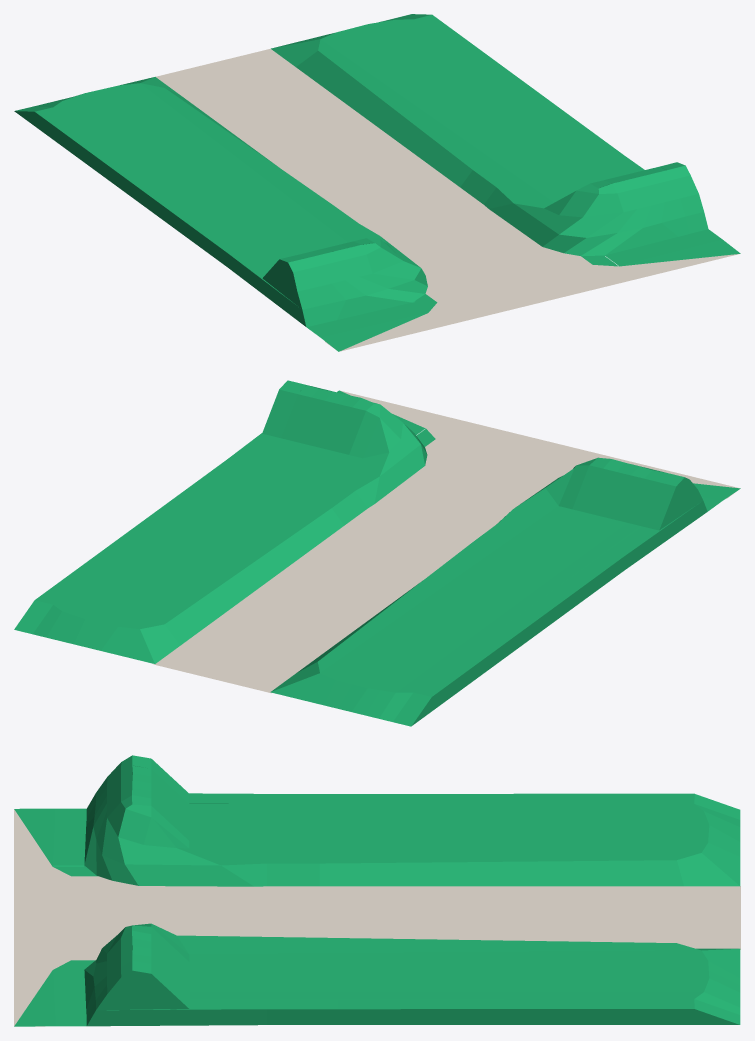
Rendered from poldergrond1.fbx.
The picture shows the model from 3 angles, top to bottom: view 1: azimuth 30°, elevation 25°; view 2: azimuth 150°, elevation 25°; view 3: azimuth 270°, elevation 25°; orthographic projection. The views are drawn at different scales.
Parts seen in each view (by area): view 1: Plane, Plane.001, Plane.002; view 2: Plane, Plane.001, Plane.002; view 3: Plane, Plane.001, Plane.002.
Part boxes in pixels (<box>): Plane: <box>14,14,708,327</box>; Plane.001: <box>155,49,738,351</box>; Plane.002: <box>307,229,740,351</box>; Plane: <box>14,380,707,726</box>; Plane.001: <box>153,390,739,693</box>; Plane.002: <box>337,390,740,511</box>; Plane: <box>84,755,740,1026</box>; Plane.001: <box>14,809,740,1026</box>; Plane.002: <box>14,808,97,1026</box>.
Bounding box in the file's own units: 980 × 116 × 1381.
